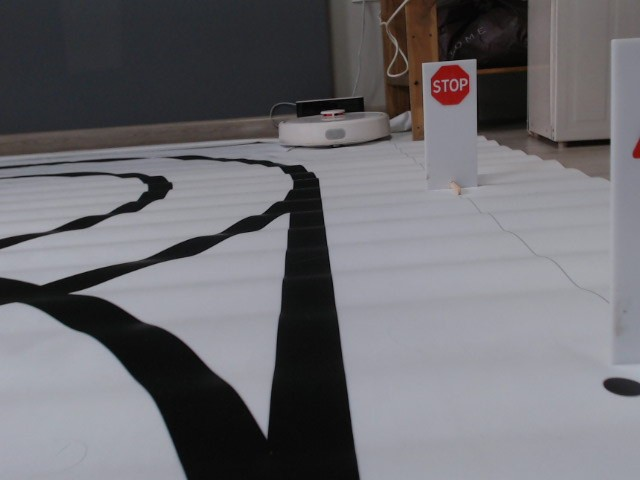Stop: (428, 64, 471, 106)
